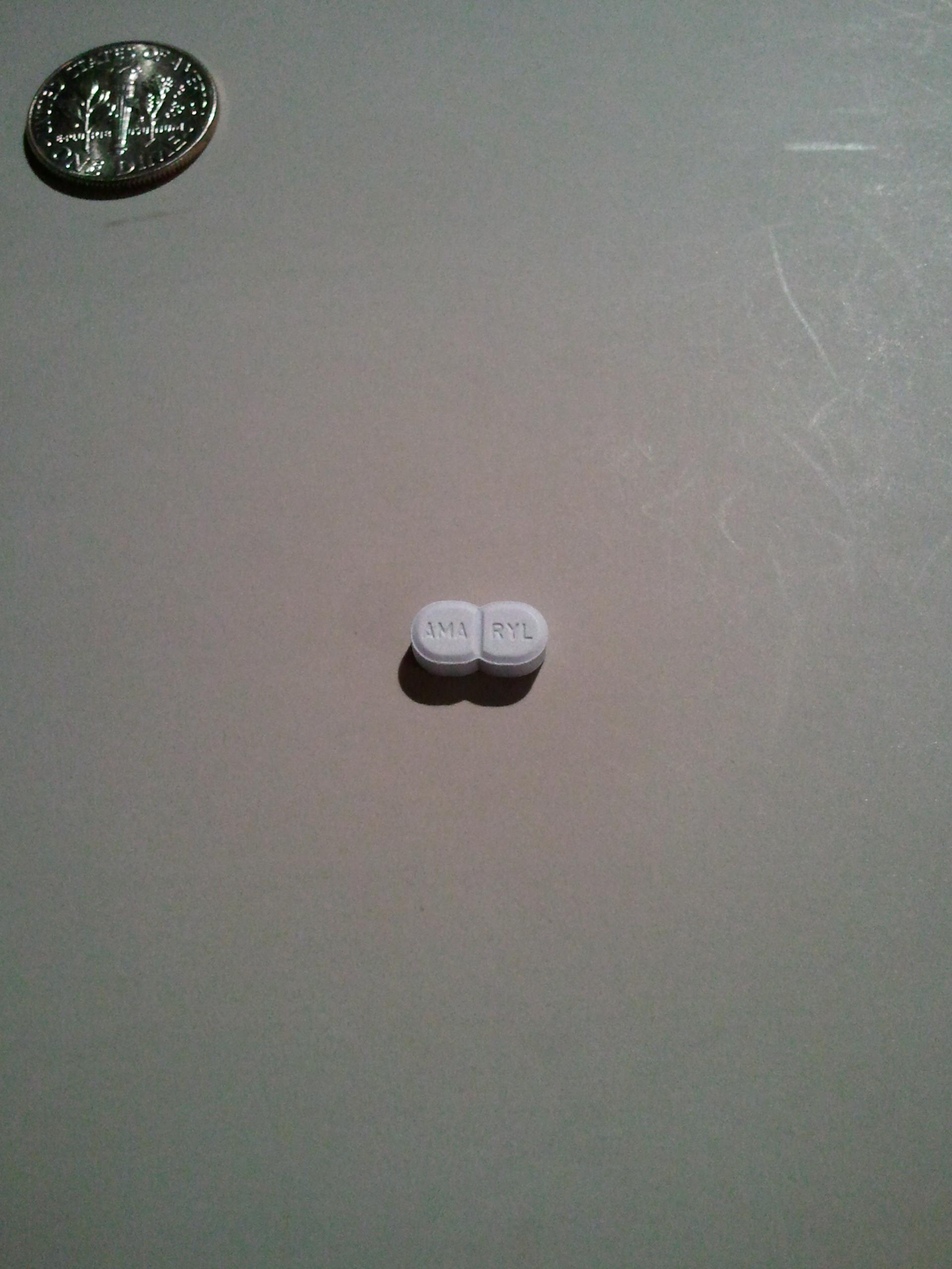Pill: (397, 590, 564, 696)
